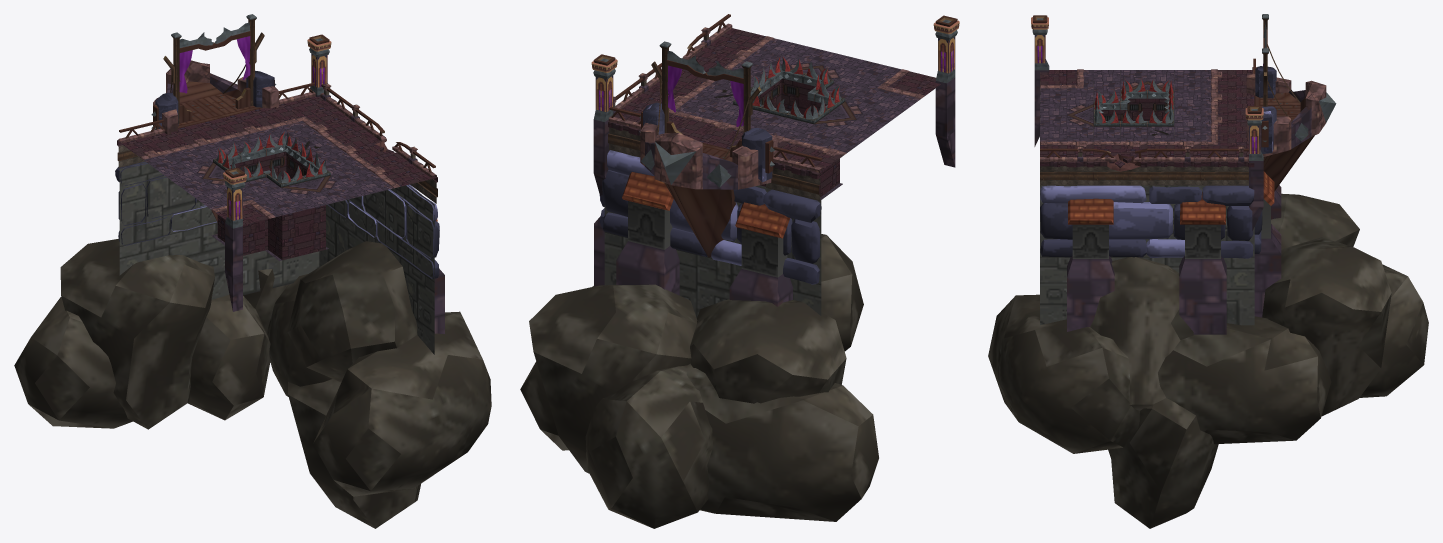
Rendered from Hallway_L_16_A.fbx.
3 views of the same model, side by side, from view 1: azimuth 30°, elevation 25°; view 2: azimuth 150°, elevation 25°; view 3: azimuth 270°, elevation 25° (orthographic). The views are drawn at different scales.
Parts seen in each view (by area): view 1: Hallway_L_16_A; view 2: Hallway_L_16_A; view 3: Hallway_L_16_A.
Part boxes in pixels (left/top/right/bottom): Hallway_L_16_A: left=14, top=14, right=491, bottom=528; Hallway_L_16_A: left=520, top=14, right=959, bottom=528; Hallway_L_16_A: left=988, top=14, right=1428, bottom=528.
Bounding box in the file's own units: 2751 × 3591 × 3287.
